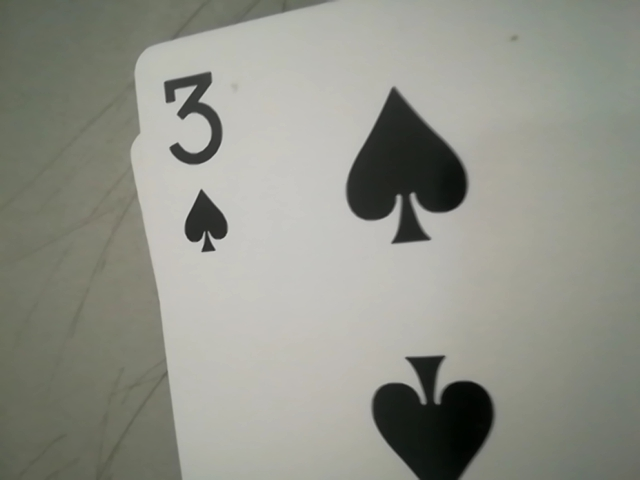ht 3: (149, 65, 247, 250)
